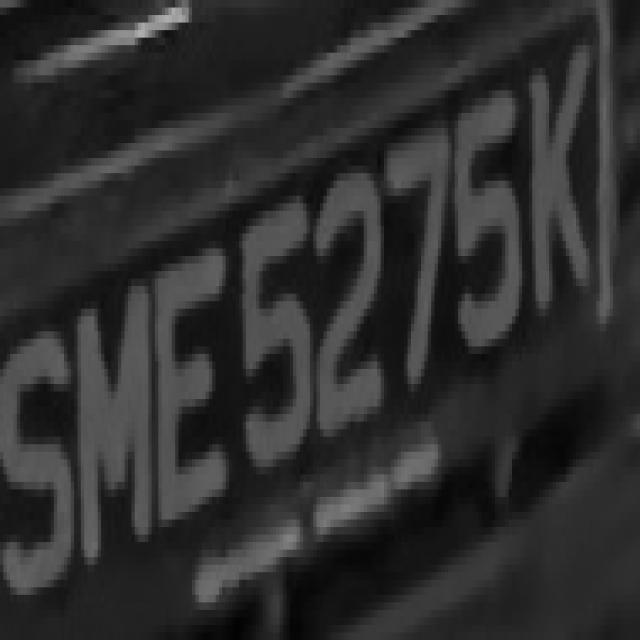2: (300, 158, 384, 452)
5: (232, 181, 314, 467), (448, 83, 529, 354)
7: (361, 113, 458, 407)
E: (152, 234, 226, 542)
K: (522, 45, 600, 339)
M: (61, 264, 158, 588)
S: (3, 301, 71, 640)
